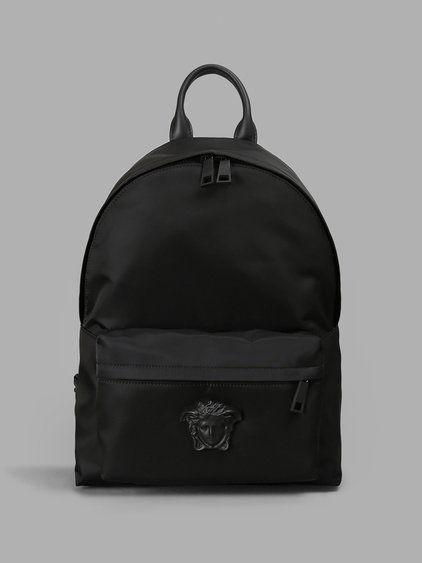VERSACE: (180, 397, 244, 452)
